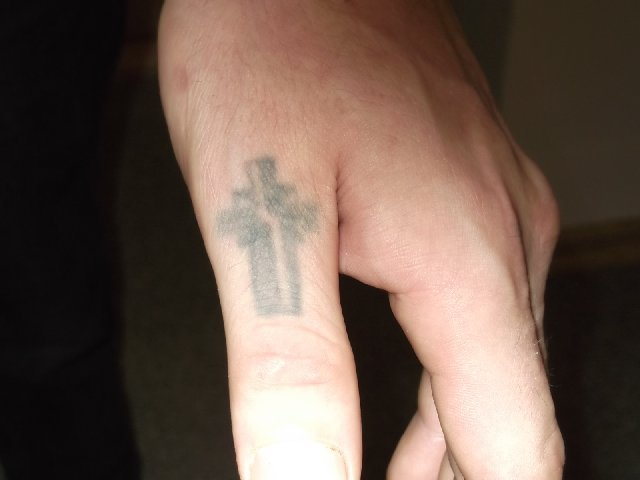tatu9_krest: (210, 158, 326, 314)
